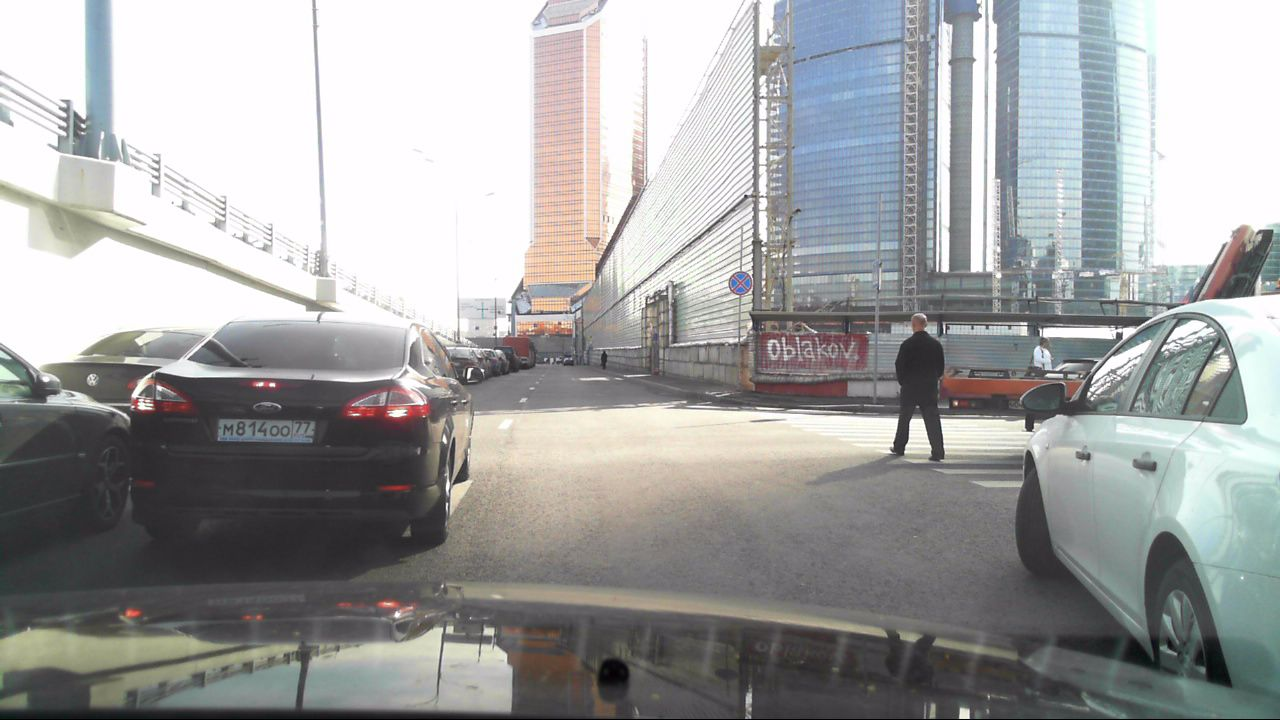No Parking: (729, 271, 754, 297)
